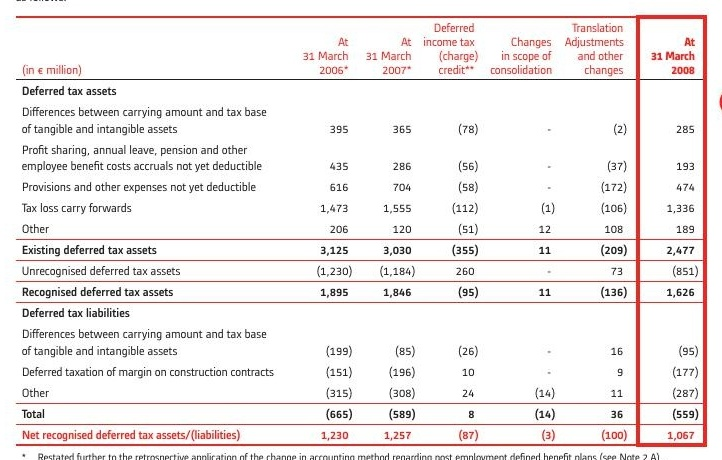table: (0, 0, 722, 460)
